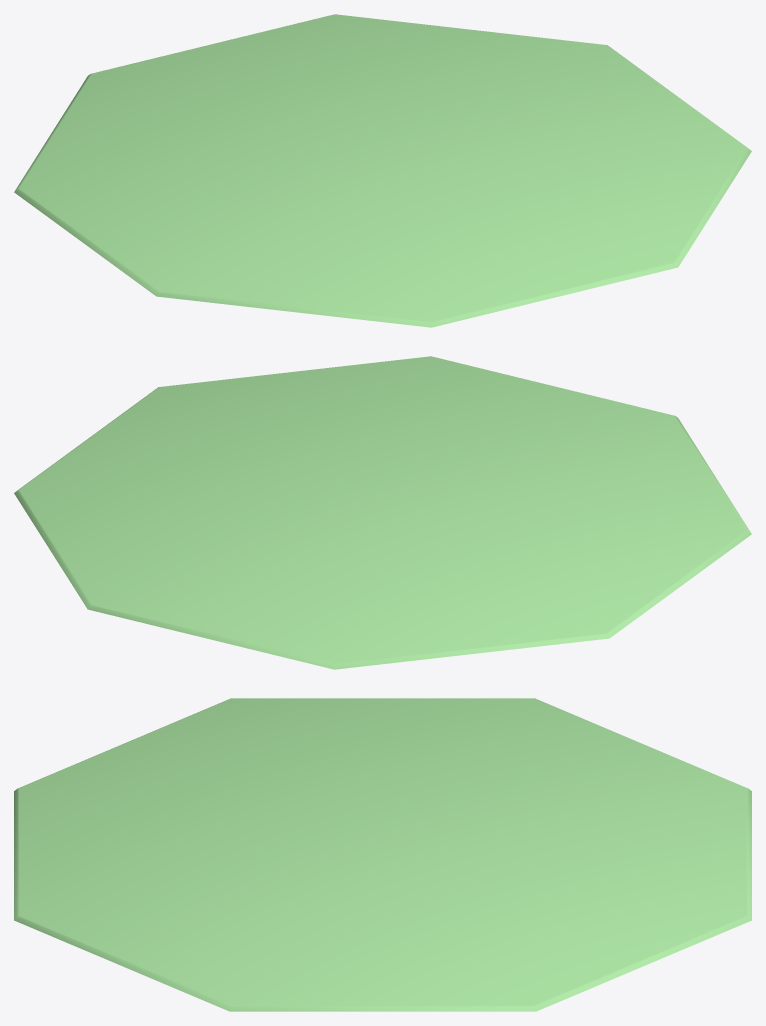
Rendered from SM_BaseTable_Center.fbx.
3 views of the same model, one above another, from view 1: azimuth 30°, elevation 25°; view 2: azimuth 150°, elevation 25°; view 3: azimuth 270°, elevation 25° (orthographic). The views are drawn at different scales.
Parts seen in each view (by area): view 1: BaseTable_Center; view 2: BaseTable_Center; view 3: BaseTable_Center.
Boxes of the visible parts, bbox=[...] form: BaseTable_Center: bbox=[14, 14, 751, 327]; BaseTable_Center: bbox=[14, 356, 751, 669]; BaseTable_Center: bbox=[14, 698, 751, 1011].
Bounding box in the file's own units: 155 × 0.9167 × 155.
